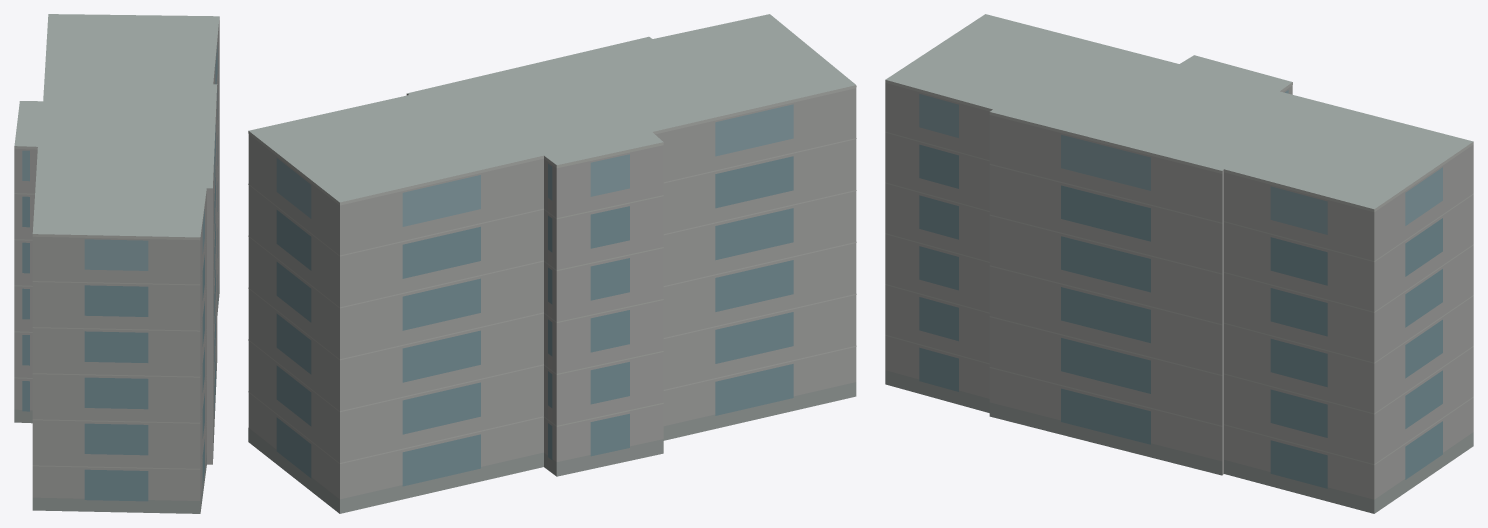
The model's file is survey-upis-32695098.glb.
The picture shows the model from 3 angles, left to right: view 1: azimuth 30°, elevation 25°; view 2: azimuth 150°, elevation 25°; view 3: azimuth 270°, elevation 25°; orthographic projection. The views are drawn at different scales.
Parts seen in each view (by area): view 1: survey-upis-32695098.tmp; view 2: survey-upis-32695098.tmp; view 3: survey-upis-32695098.tmp.
Part boxes in pixels (box(x1,y1,x2,y2)): survey-upis-32695098.tmp: box(14, 14, 219, 513); survey-upis-32695098.tmp: box(248, 14, 856, 513); survey-upis-32695098.tmp: box(885, 14, 1473, 513).
Bounding box in the file's own units: 34.12 × 24.8 × 43.43.
